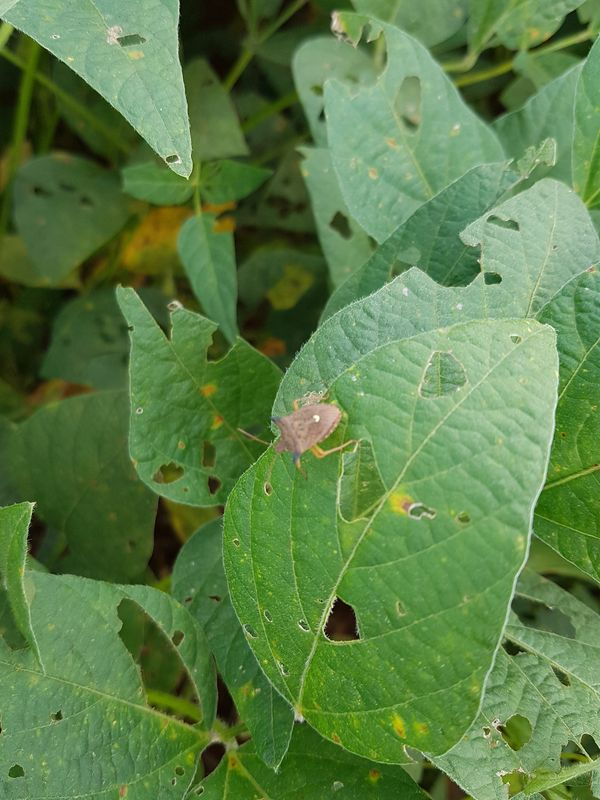Euschistus_heros_adulto: (234, 379, 363, 490)
